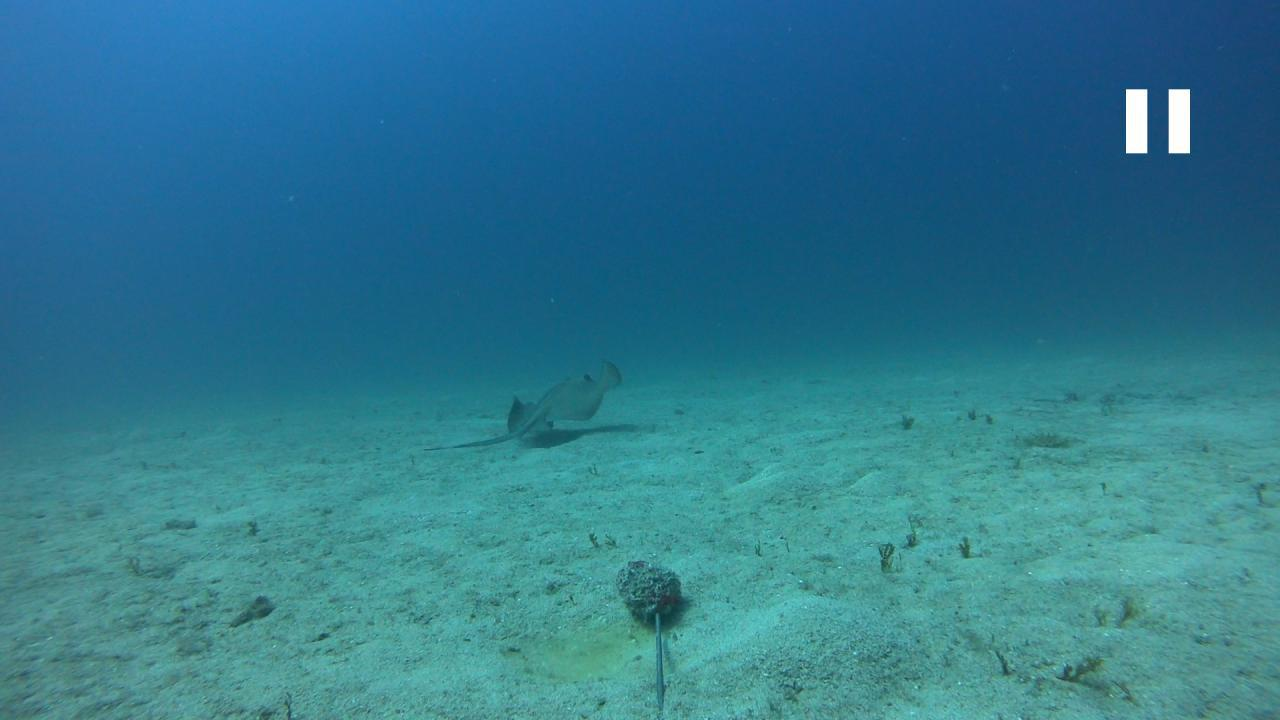dasyatis: (423, 356, 623, 450)
